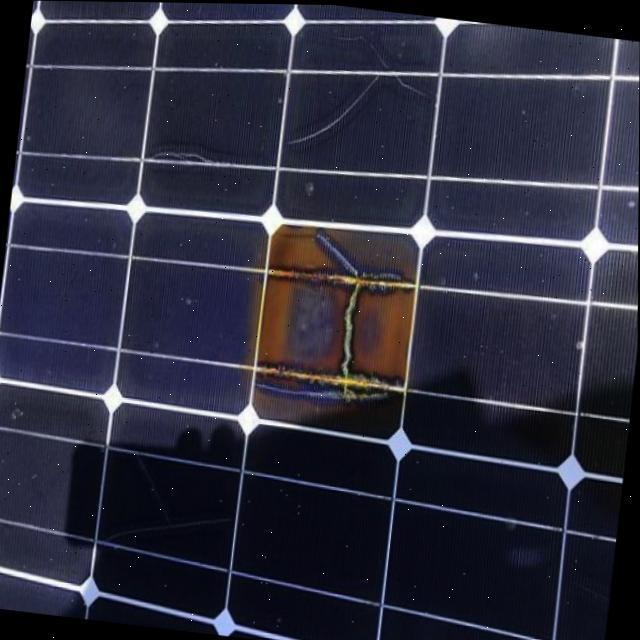Anomaly Solar Panel: (0, 0, 640, 640)
Structural Damage: (247, 217, 416, 435), (90, 440, 230, 540), (287, 69, 384, 151), (333, 21, 397, 70), (141, 146, 213, 163), (389, 70, 426, 98)
